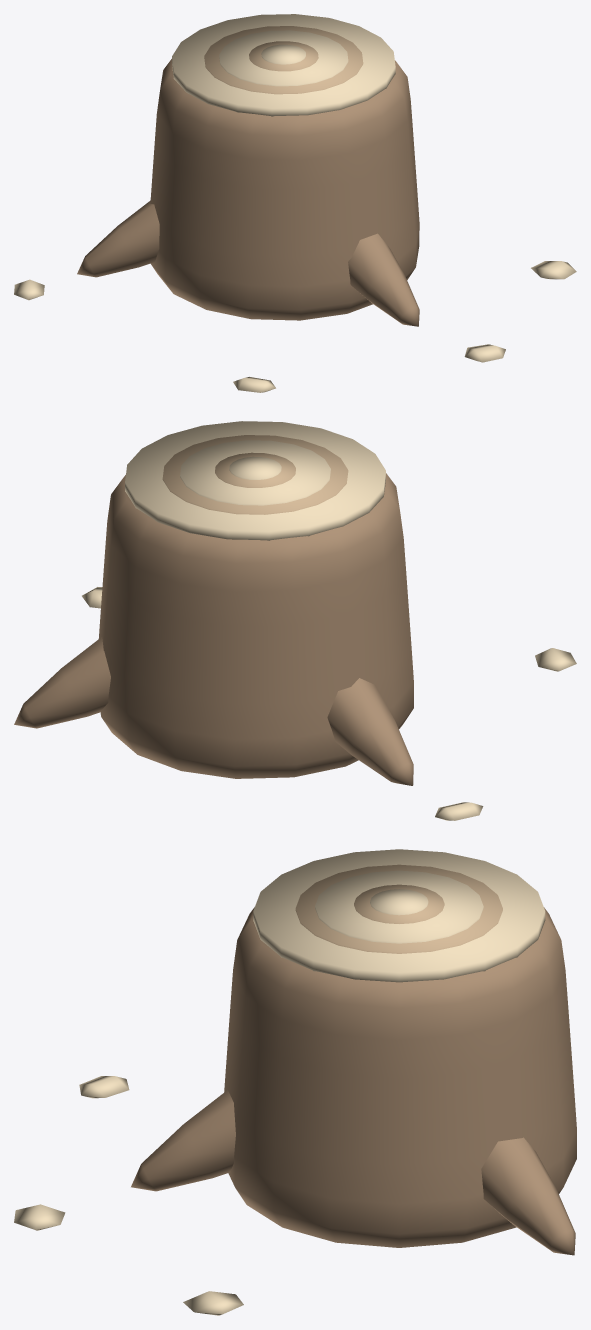
Rendered from tree_stump.glb.
3 views of the same model, one above another, from view 1: azimuth 30°, elevation 25°; view 2: azimuth 150°, elevation 25°; view 3: azimuth 270°, elevation 25° (orthographic). The views are drawn at different scales.
Visible parts, largest first — view 1: tree_stump; view 2: tree_stump; view 3: tree_stump.
Part boxes in pixels (x1,y1,x2,y2): tree_stump: [14, 14, 576, 392]; tree_stump: [14, 421, 576, 820]; tree_stump: [14, 849, 576, 1315].
Size of the model in its own units: 1.03 by 0.486 by 0.8671.
